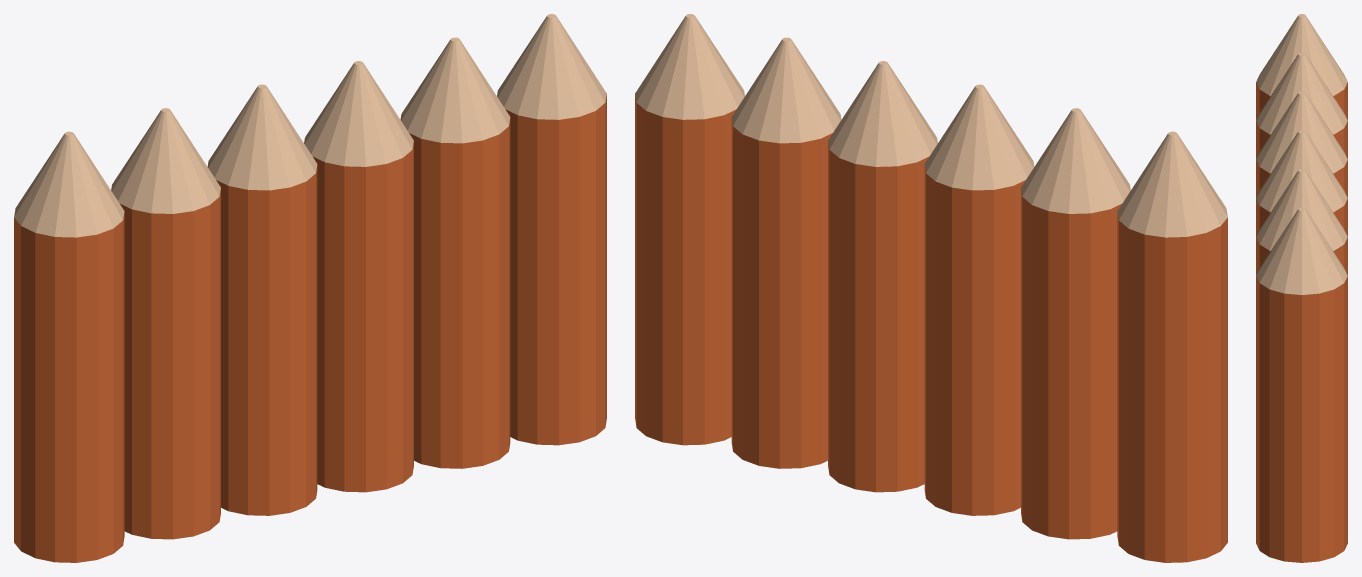
Rendered from Barrier.fbx.
The picture shows the model from 3 angles, left to right: view 1: azimuth 30°, elevation 25°; view 2: azimuth 150°, elevation 25°; view 3: azimuth 270°, elevation 25°; orthographic projection. The views are drawn at different scales.
Visible parts, largest first — view 1: Cylinder.001; view 2: Cylinder.001; view 3: Cylinder.001.
Part boxes in pixels (x1=…): Cylinder.001: x1=14, y1=14, x2=606, y2=562; Cylinder.001: x1=635, y1=14, x2=1227, y2=562; Cylinder.001: x1=1256, y1=14, x2=1347, y2=562.
Bounding box in the file's own units: 1200 × 804 × 200.
